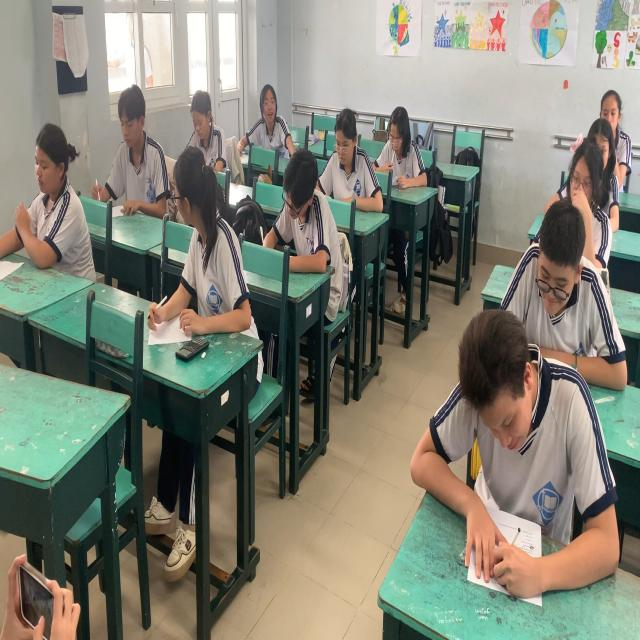cheating: (148, 153, 252, 322), (249, 75, 290, 146)
not_cheating: (433, 310, 590, 524), (510, 198, 621, 346), (13, 122, 92, 270), (266, 149, 326, 271), (104, 82, 158, 200), (324, 107, 374, 210), (561, 136, 615, 229), (375, 104, 421, 190), (180, 86, 220, 159), (586, 79, 630, 139)
